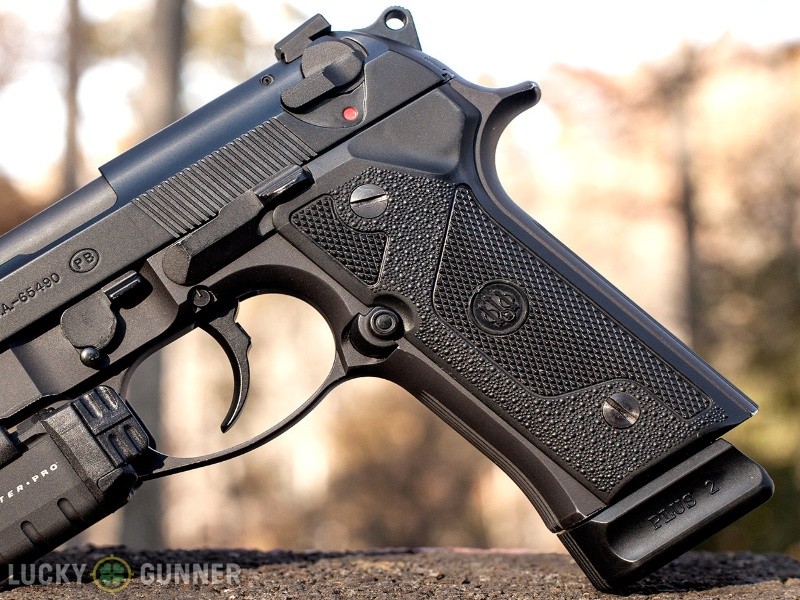gun: (6, 11, 786, 582)
